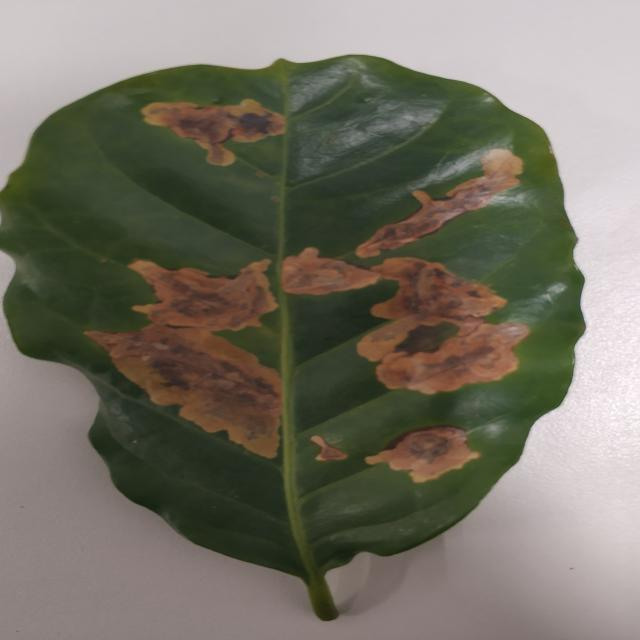Plaga-Minador: (0, 55, 587, 624)
